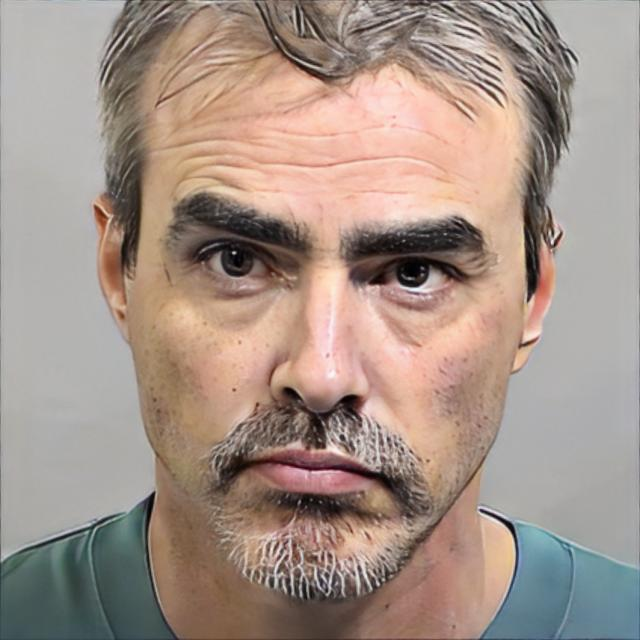anger: (128, 54, 522, 603)
